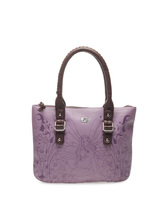bag: (30, 47, 138, 184)
